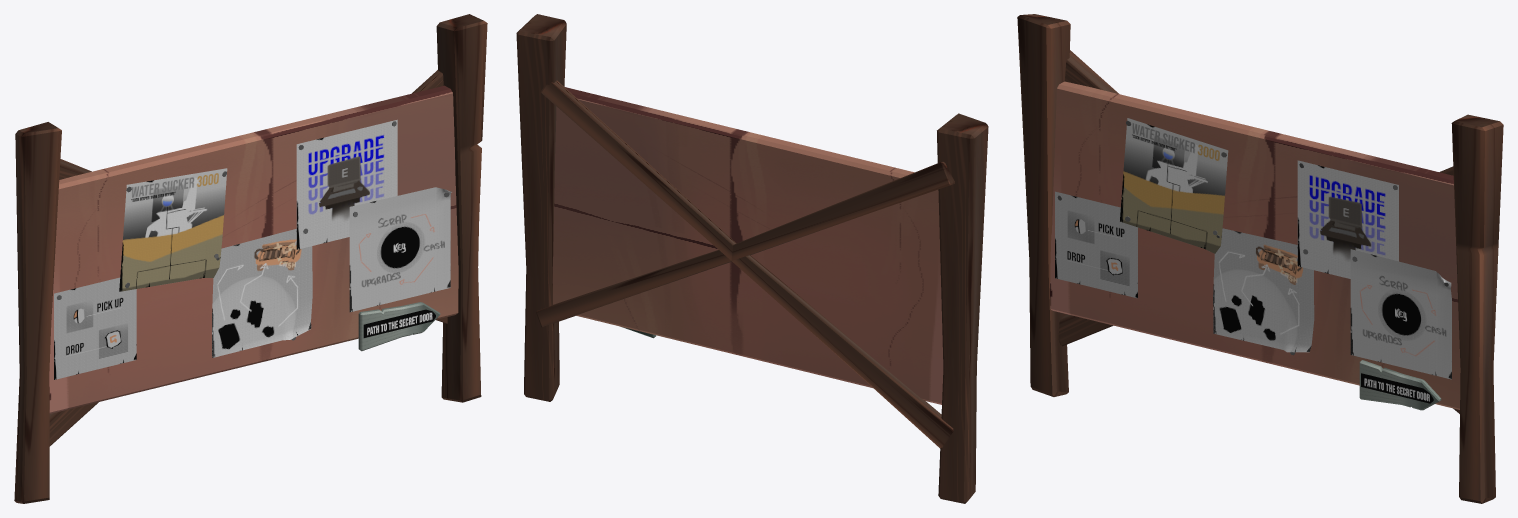
File: Tutorial_Board.glb
3 views of the same model, side by side, from view 1: azimuth 30°, elevation 25°; view 2: azimuth 150°, elevation 25°; view 3: azimuth 330°, elevation 25° (orthographic). The views are drawn at different scales.
Parts seen in each view (by area): view 1: Cube.017; view 2: Cube.017; view 3: Cube.017.
Part boxes in pixels (x1,y1,x2,y2): Cube.017: (14, 14, 487, 503); Cube.017: (516, 14, 988, 503); Cube.017: (1017, 14, 1503, 503).
Bounding box in the file's own units: 7.19 × 5.61 × 0.5901.
Materials: 10 (9 with a texture image).
